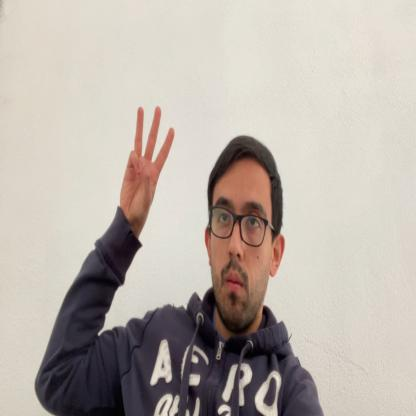W: (121, 103, 175, 231)
